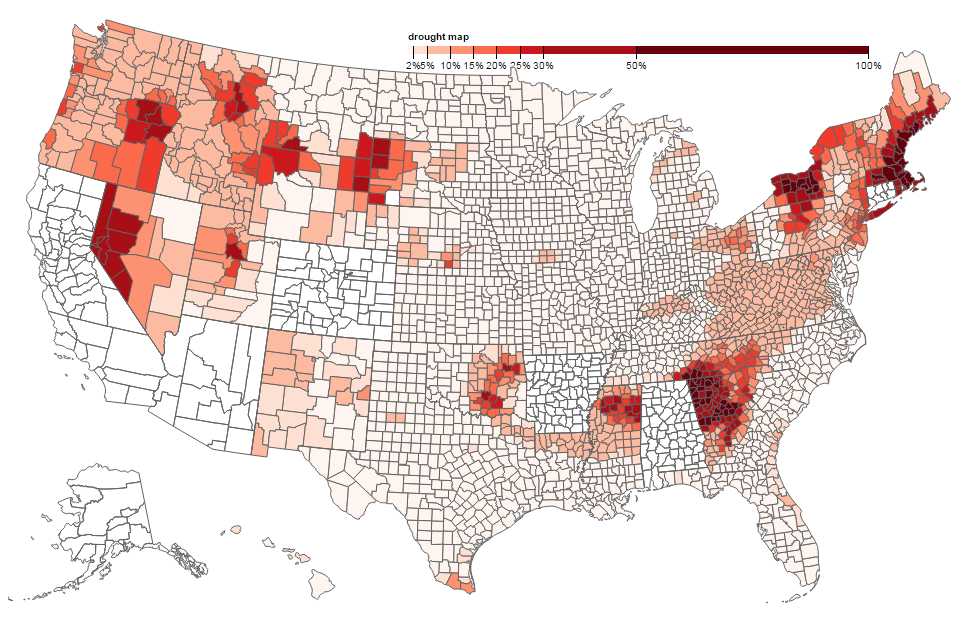

This screenshot's page, from the dashboard's own definition file:
{"tool":"tableau","page":{"name":"Dashboard 1","canvas":[1000,800],"ordinal":0},"visuals":[{"type":"worksheet","title":"Sheet 1","mark":"Circle","rows":["MPG"],"cols":["Weight"],"box":[0,0,840,800]},{"type":"legend","title":"Sheet 1","param":"[textscan.14h8h6g1ua10101g5851s1sy8clt].[none:Manufacturer:nk]","box":[840,0,160,134]},{"type":"legend","title":"Sheet 1","param":"[textscan.14h8h6g1ua10101g5851s1sy8clt].[none:Weight:qk]","box":[840,134,160,110]}]}

Visuals, with their boxes on the page's 1000x800 design canvas (x1, y1, x2, y2). These are canvas units, not pixel positions in the 975x633 screenshot, which may show the page scaled, cropped or inside an application window:
"Sheet 1" worksheet (Circle marks): {"x1": 0, "y1": 0, "x2": 840, "y2": 800}
"Sheet 1" legend: {"x1": 840, "y1": 0, "x2": 1000, "y2": 134}
"Sheet 1" legend: {"x1": 840, "y1": 134, "x2": 1000, "y2": 244}
